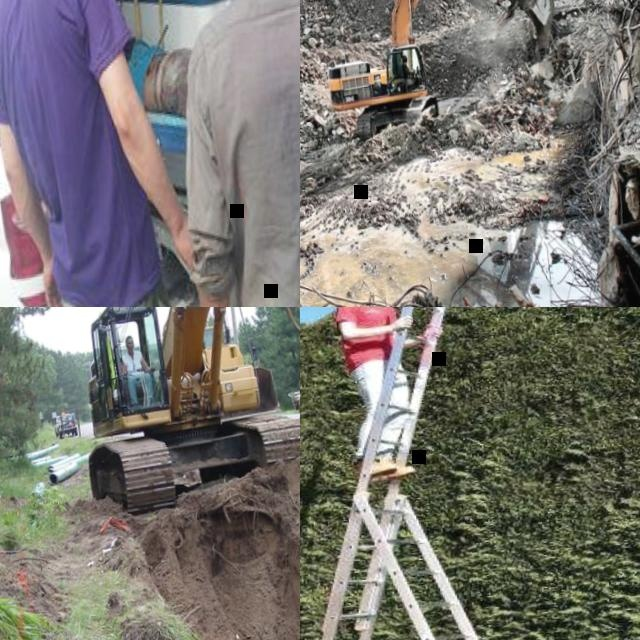Hardhat: (0, 0, 216, 307), (135, 0, 300, 307)
NO-Hardhat: (124, 335, 134, 344), (403, 55, 408, 62)
NO-Mask: (126, 344, 135, 353)
NO-Safety Vest: (0, 0, 165, 307), (204, 0, 300, 307), (123, 351, 145, 375)
Person: (325, 307, 454, 483), (118, 332, 158, 406), (402, 53, 415, 76)
machinery: (53, 307, 300, 640), (307, 0, 568, 148)
vehicle: (0, 0, 300, 307), (53, 409, 78, 441)
